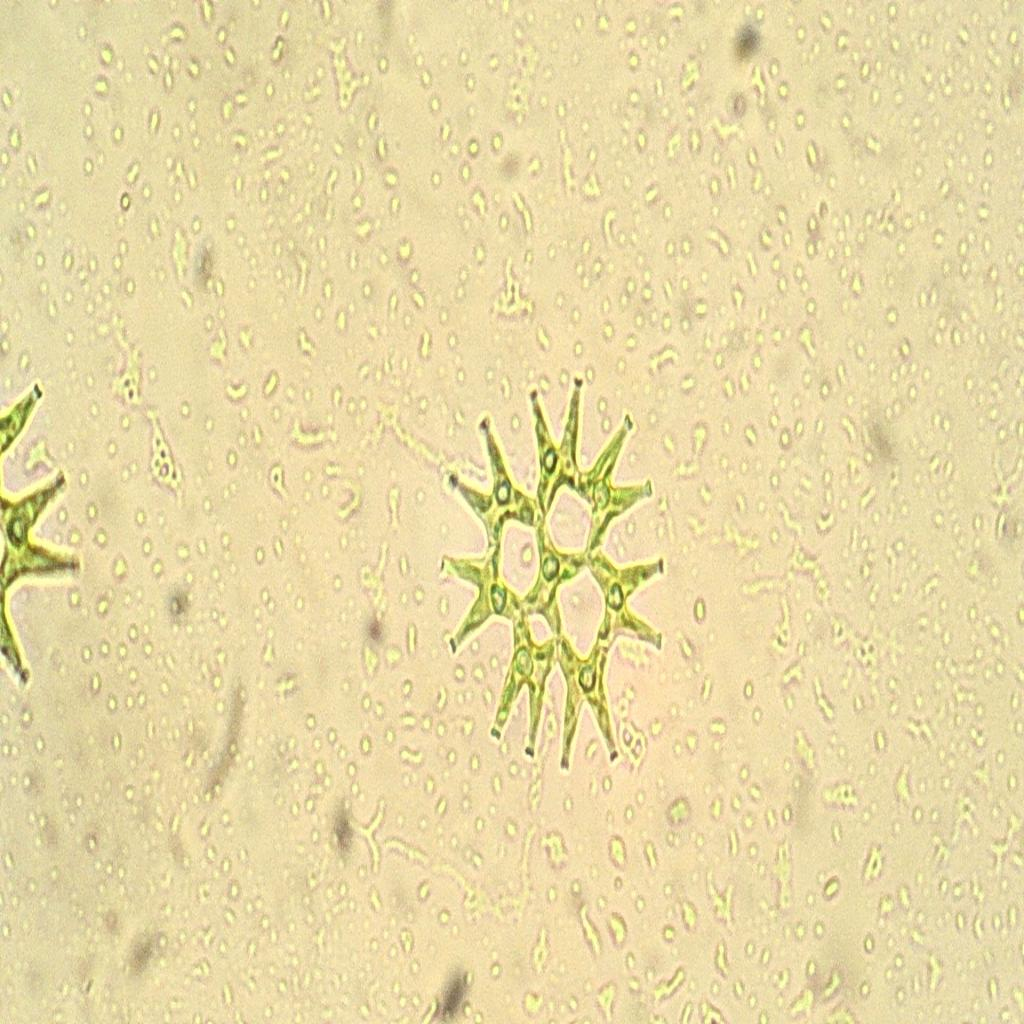Pediastrum_CTH: (426, 348, 691, 784)
